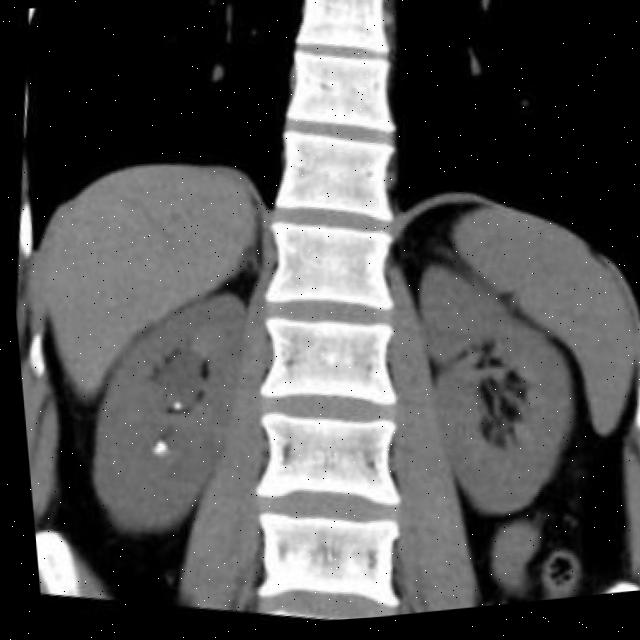Tas_Var: (143, 435, 163, 459), (164, 399, 177, 413)
